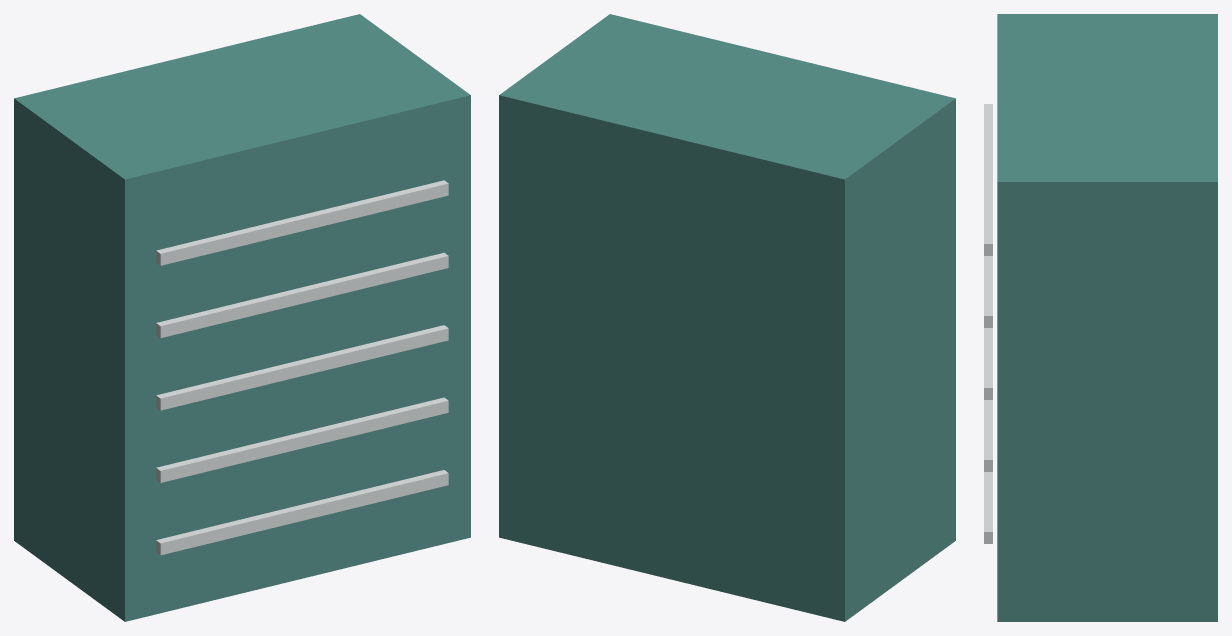
Rendered from grand-prix-circuit-and-open-wheel-garage-tool-cabinet-0b99be58__15233.glb.
The picture shows the model from 3 angles, left to right: view 1: azimuth 30°, elevation 25°; view 2: azimuth 150°, elevation 25°; view 3: azimuth 270°, elevation 25°; orthographic projection.
Visible parts, largest first — view 1: garage-tool-cabinet; view 2: garage-tool-cabinet; view 3: garage-tool-cabinet.
Boxes of the visible parts, x1,y1,x2,y2 form: garage-tool-cabinet: (14,14,470,621); garage-tool-cabinet: (499,14,955,621); garage-tool-cabinet: (984,14,1217,621).
Size of the model in its own units: 0.9001 by 1.1 by 0.53.
